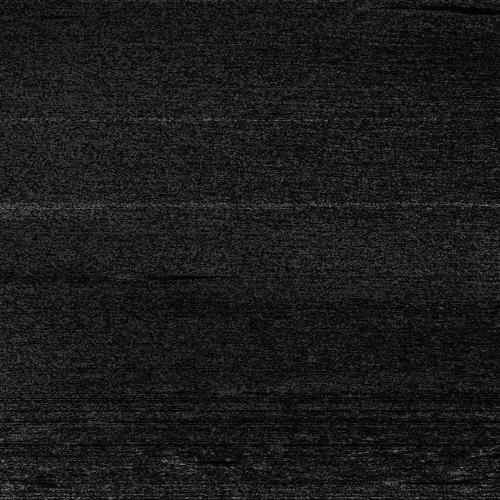object: (392, 476, 433, 481), (7, 12, 60, 15), (365, 2, 406, 5)
shadow: (413, 476, 490, 481), (34, 12, 80, 15), (385, 2, 407, 5)
